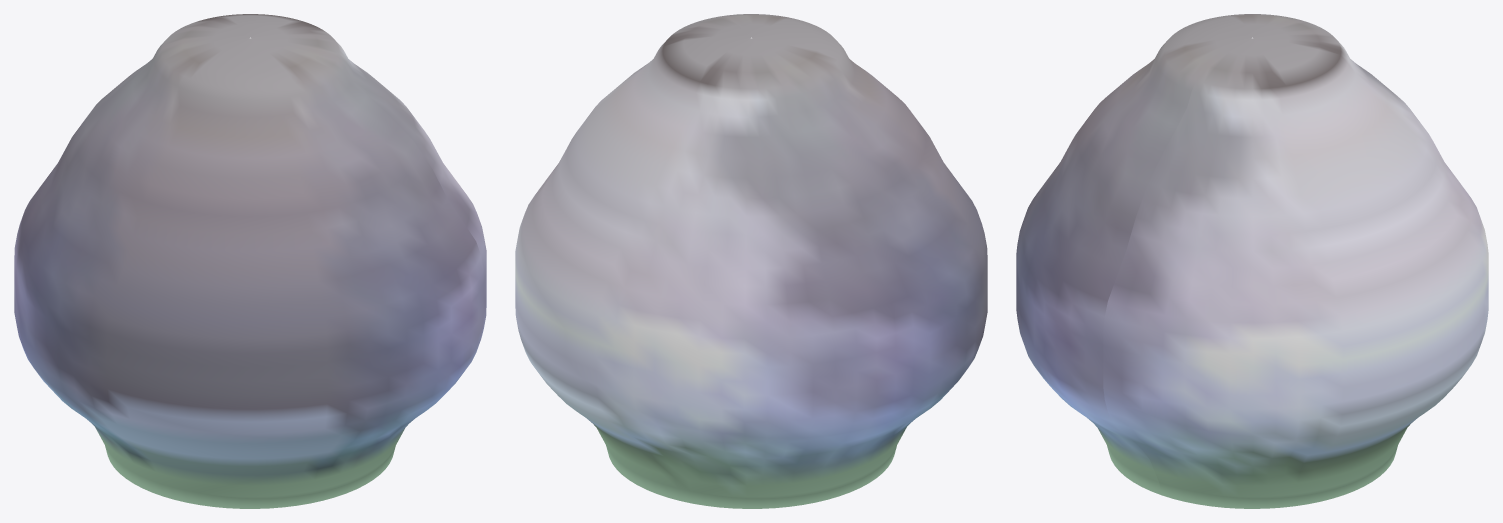
File: stone-4.glb
3 views of the same model, side by side, from view 1: azimuth 30°, elevation 25°; view 2: azimuth 150°, elevation 25°; view 3: azimuth 270°, elevation 25° (orthographic).
Parts seen in each view (by area): view 1: stone-4; view 2: stone-4; view 3: stone-4.
Boxes of the visible parts, left/top/right/bottom form: stone-4: left=14, top=14, right=486, bottom=508; stone-4: left=515, top=14, right=987, bottom=508; stone-4: left=1016, top=14, right=1488, bottom=508.
Size of the model in its own units: 0.6026 by 0.5773 by 0.6026.
